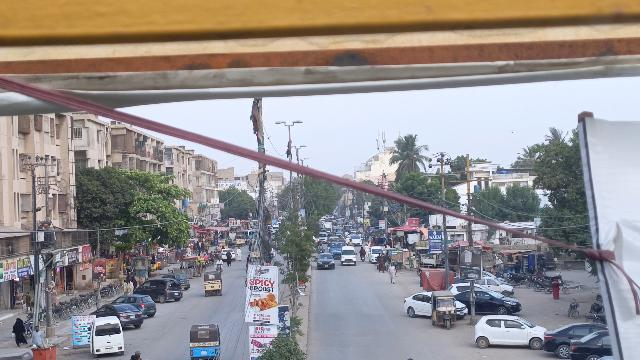Bike: (562, 296, 583, 319)
Car: (472, 311, 546, 351), (543, 321, 604, 359), (403, 289, 468, 321), (455, 287, 521, 315), (567, 329, 616, 360), (90, 301, 143, 327), (135, 277, 183, 304), (112, 291, 157, 317), (314, 252, 338, 273), (339, 246, 358, 267)
Person: (9, 316, 29, 347), (30, 324, 45, 350), (388, 260, 398, 284)
Rickshaw: (187, 321, 225, 360), (429, 288, 459, 330), (201, 269, 225, 297)
Van: (89, 315, 129, 357)
